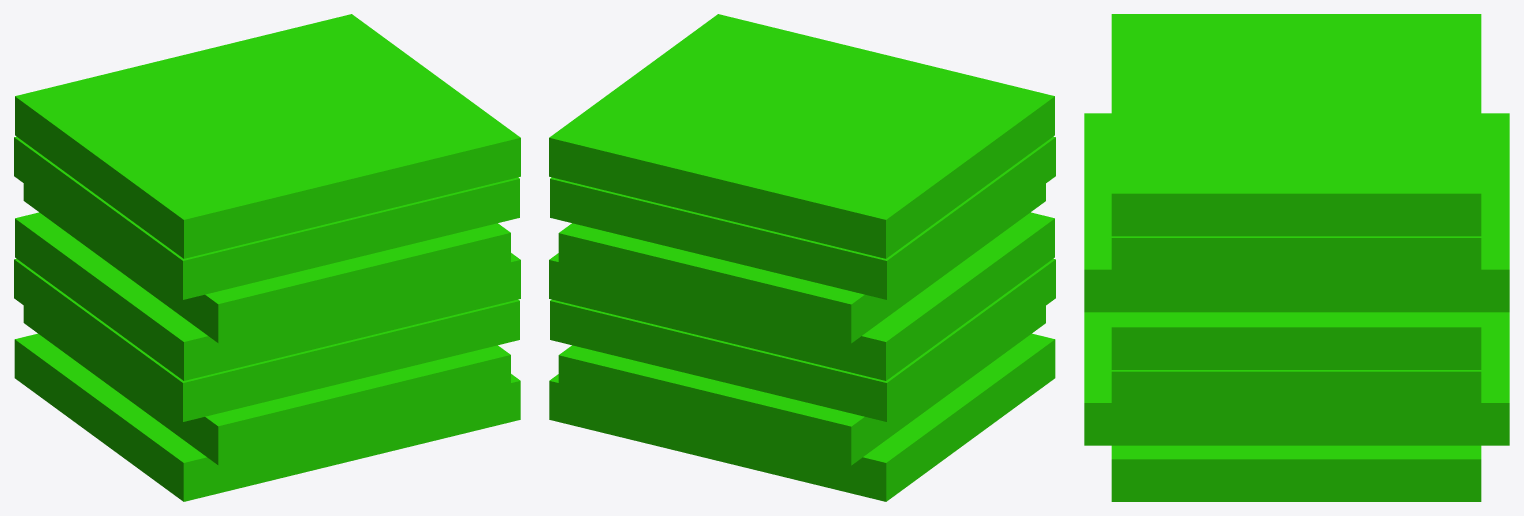
The model's file is Pallet_Pile_01_Lod1.fbx.
3 renders of one model, left to right at view 1: azimuth 30°, elevation 25°; view 2: azimuth 150°, elevation 25°; view 3: azimuth 270°, elevation 25°, orthographic. The views are drawn at different scales.
Visible parts, largest first — view 1: Pallet_Pile_01_Lod1; view 2: Pallet_Pile_01_Lod1; view 3: Pallet_Pile_01_Lod1.
Part boxes in pixels (left/top/right/bottom): Pallet_Pile_01_Lod1: left=14, top=14, right=520, bottom=501; Pallet_Pile_01_Lod1: left=549, top=14, right=1055, bottom=501; Pallet_Pile_01_Lod1: left=1084, top=14, right=1509, bottom=501.
Bounding box in the file's own units: 140 × 112 × 140.
